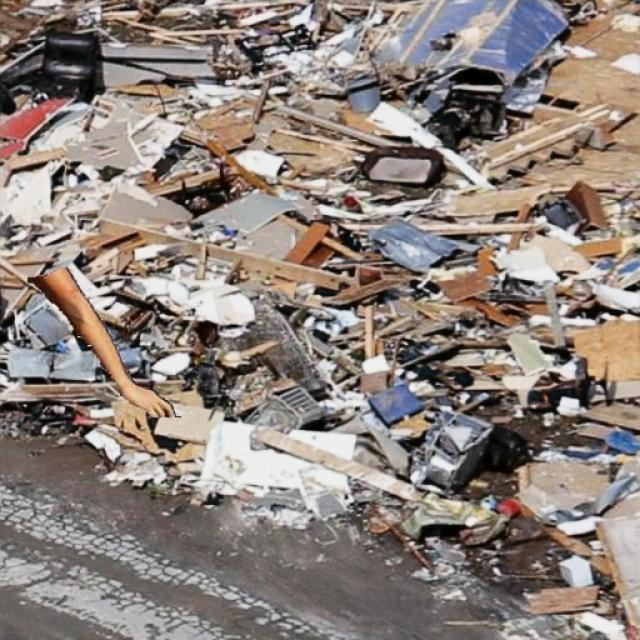Person in Rubble: (28, 268, 180, 417)
